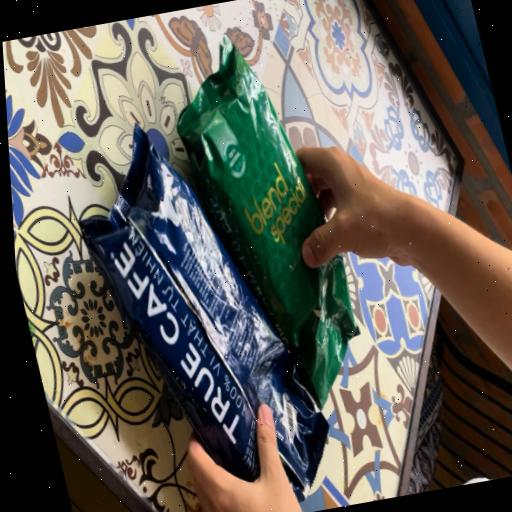cafe_hat: (79, 125, 327, 502)
cafe_xay: (176, 36, 358, 406)
